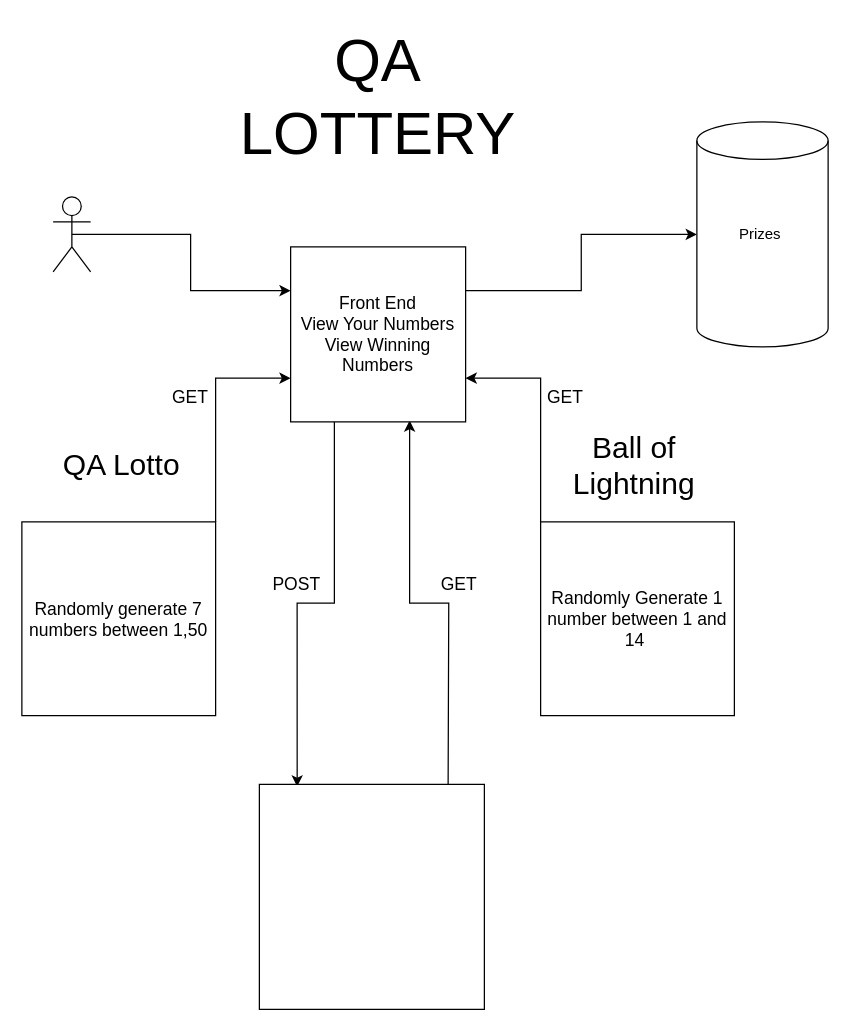
Image size: 850x1031. Some labels were removed from this diagram. Each missing label, with the box of its shape:
Generate wining lotto numbers Generate winning Ball of Lightning: (258, 783, 484, 1009)
USER: (52, 196, 91, 272)
